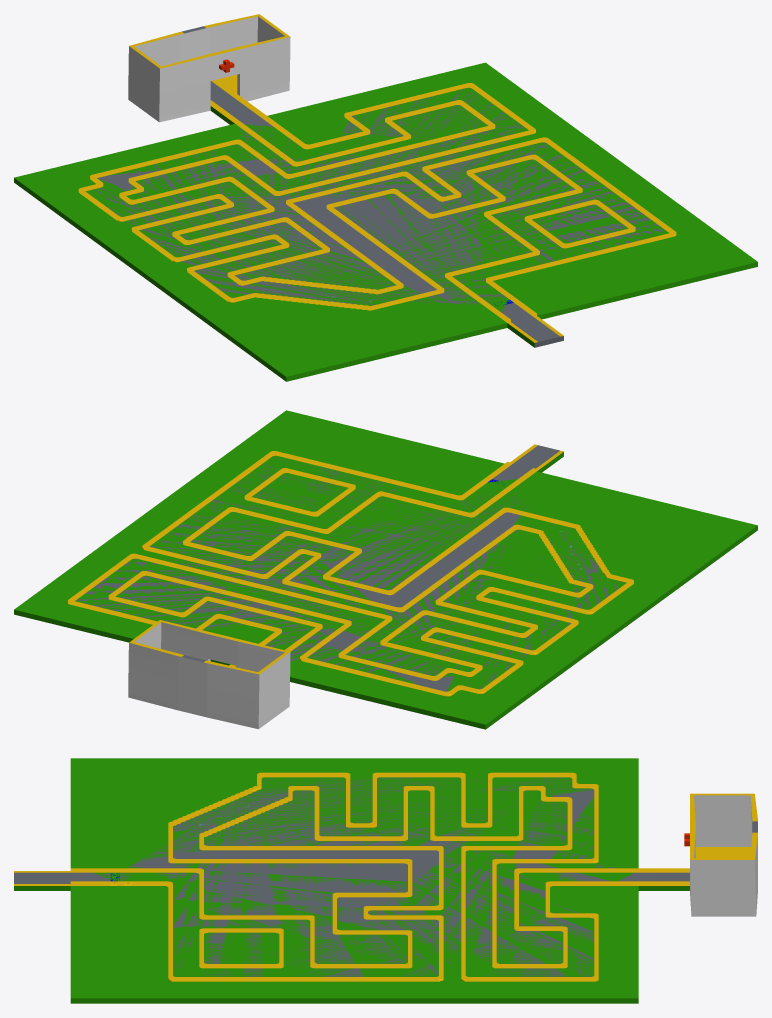
Rendered from Map.fbx.
3 renders of one model, top to bottom at view 1: azimuth 30°, elevation 25°; view 2: azimuth 150°, elevation 25°; view 3: azimuth 270°, elevation 25°, orthographic. The views are drawn at different scales.
Visible parts, largest first — view 1: Cube; view 2: Cube; view 3: Cube.
Part boxes in pixels (bbox=[...]): Cube: bbox=[14, 14, 757, 381]; Cube: bbox=[14, 410, 757, 729]; Cube: bbox=[14, 758, 757, 1003].
Size of the model in its own units: 10000 by 1100 by 13100.
